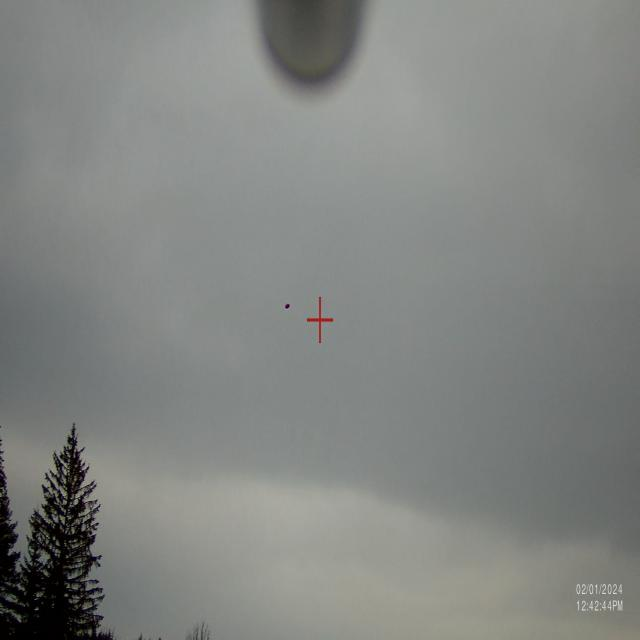entire: (282, 295, 294, 311)
